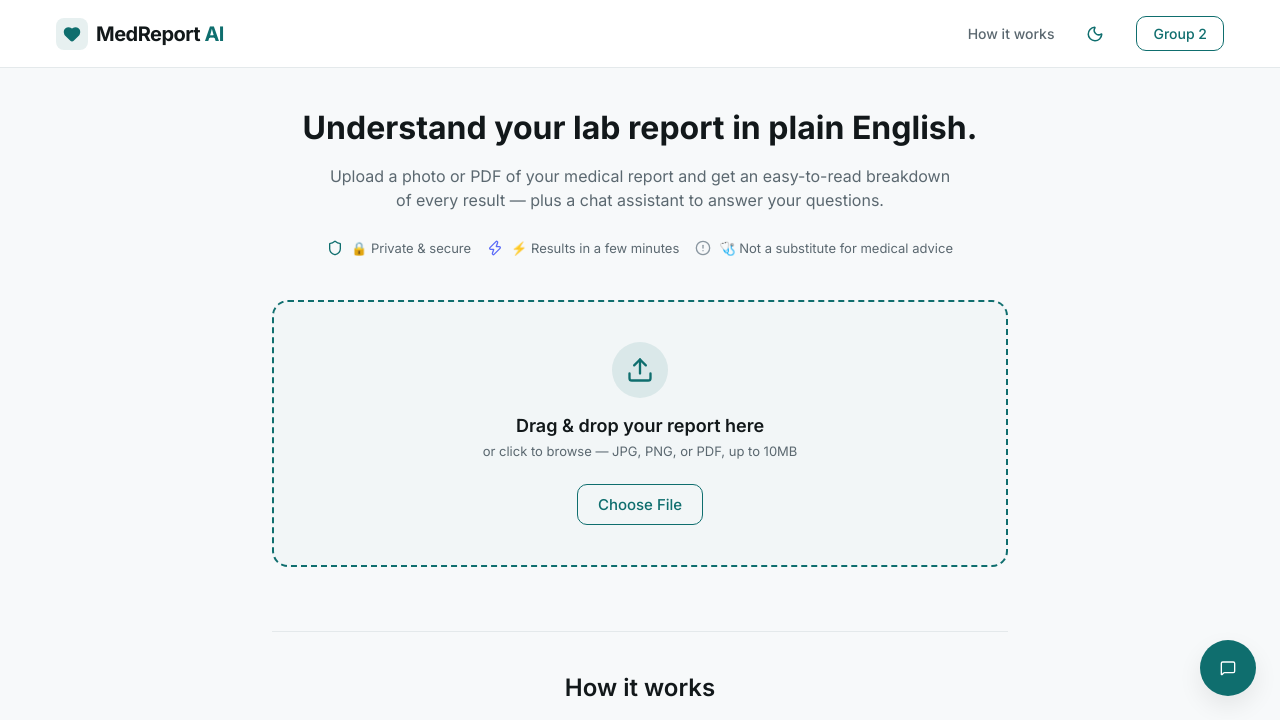
Test: Group 2 header button › replaces Sign In and opens a modal listing every member first name
Click the button "Group 2": (1180, 34) [1136,16,1224,51]
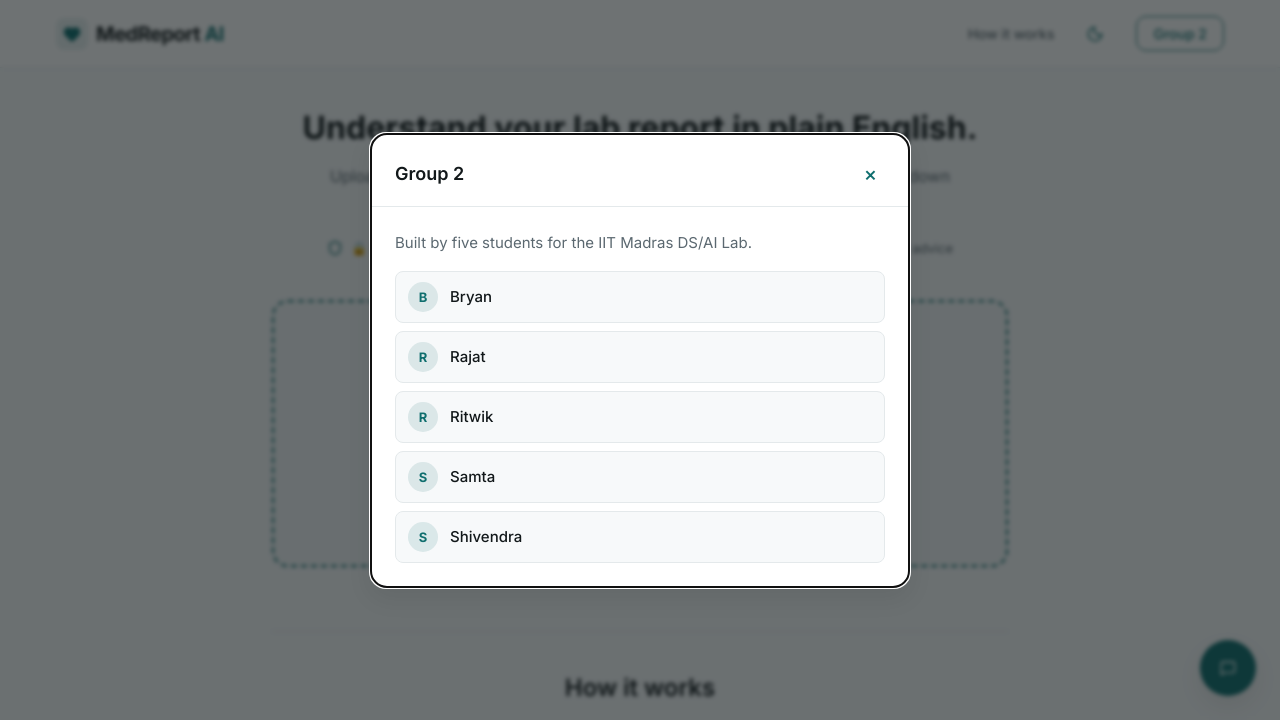
Expected: the list with test id "group-members" is shown, [395,270,885,562]
